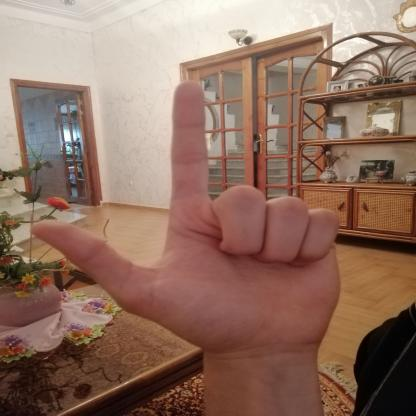LAAM: (13, 69, 363, 360)
